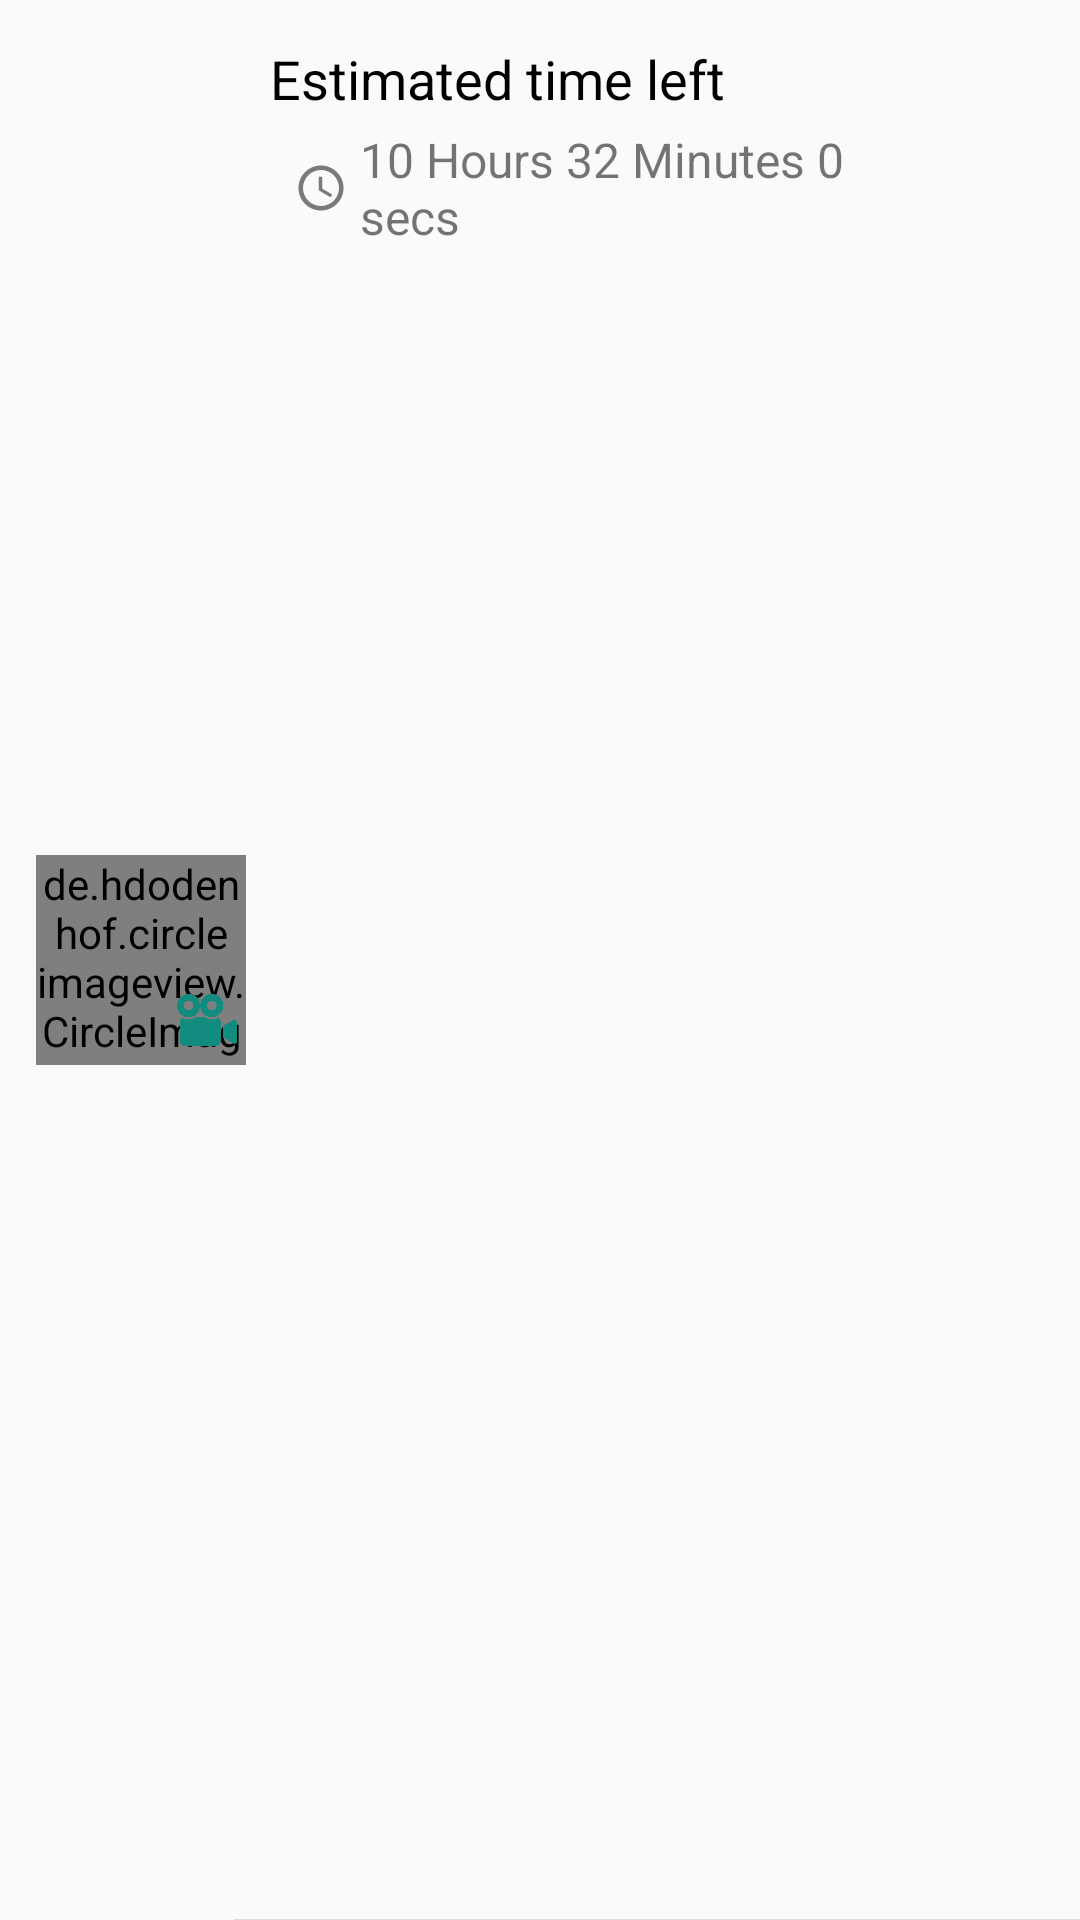

Point at icon controls on the screen. Image size 1080w x 1920h, points as (x,y).
video camera: (207,1020)
